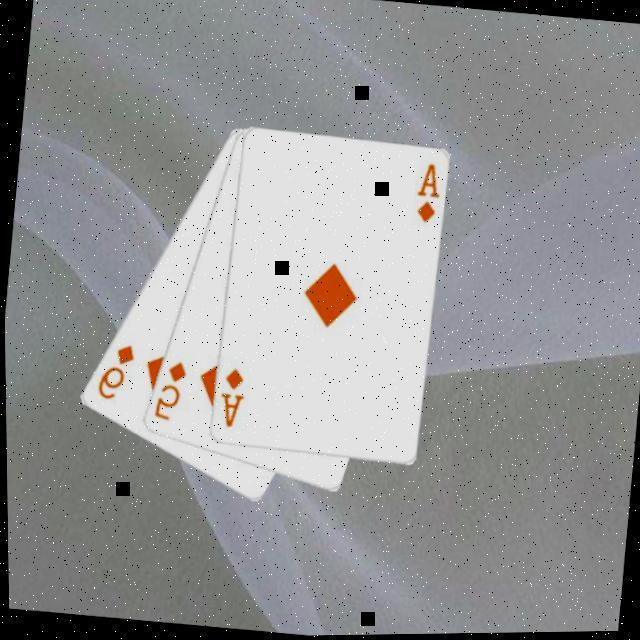5D: (147, 354, 190, 422)
6D: (91, 336, 138, 404)
AD: (212, 362, 250, 430), (409, 158, 445, 226)
